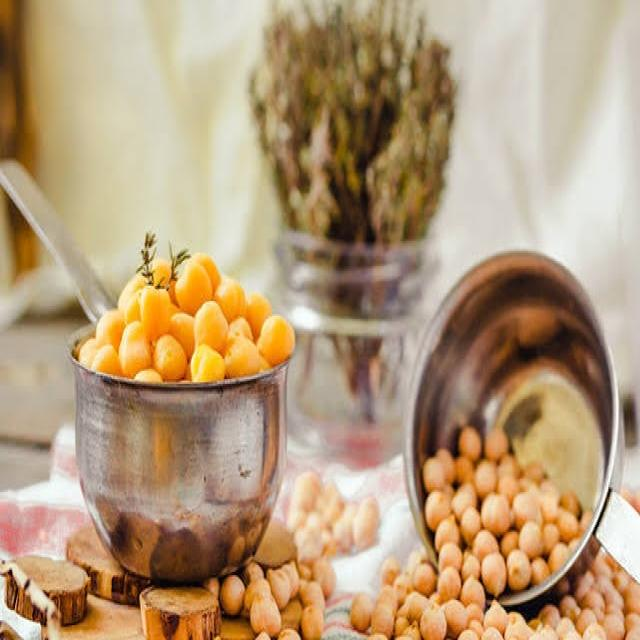Nakhi: (273, 379, 640, 640), (70, 236, 297, 412)
